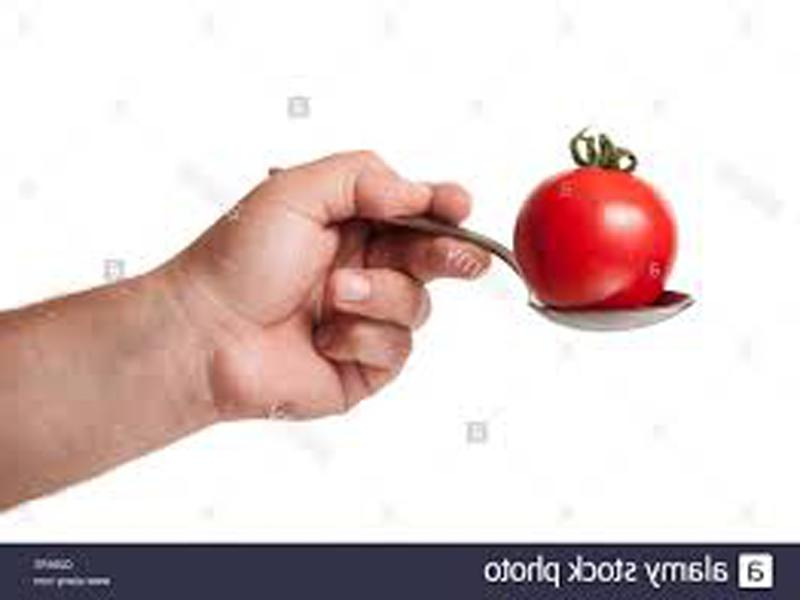Tomato: (512, 166, 674, 306)
